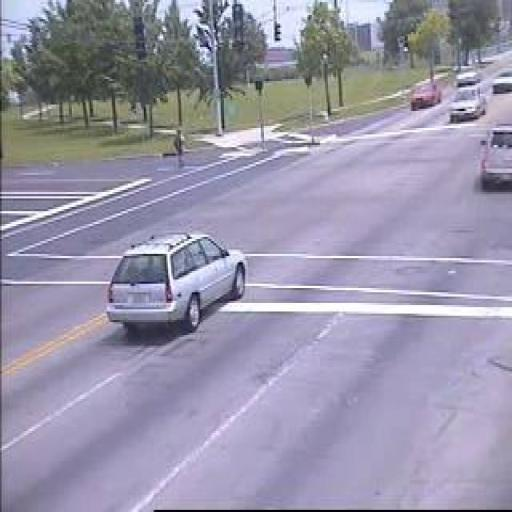Car: (104, 230, 250, 336), (478, 122, 512, 194), (449, 86, 485, 120), (410, 83, 442, 109), (490, 69, 512, 95), (455, 66, 480, 86)
Not Accident: (408, 64, 512, 123)
